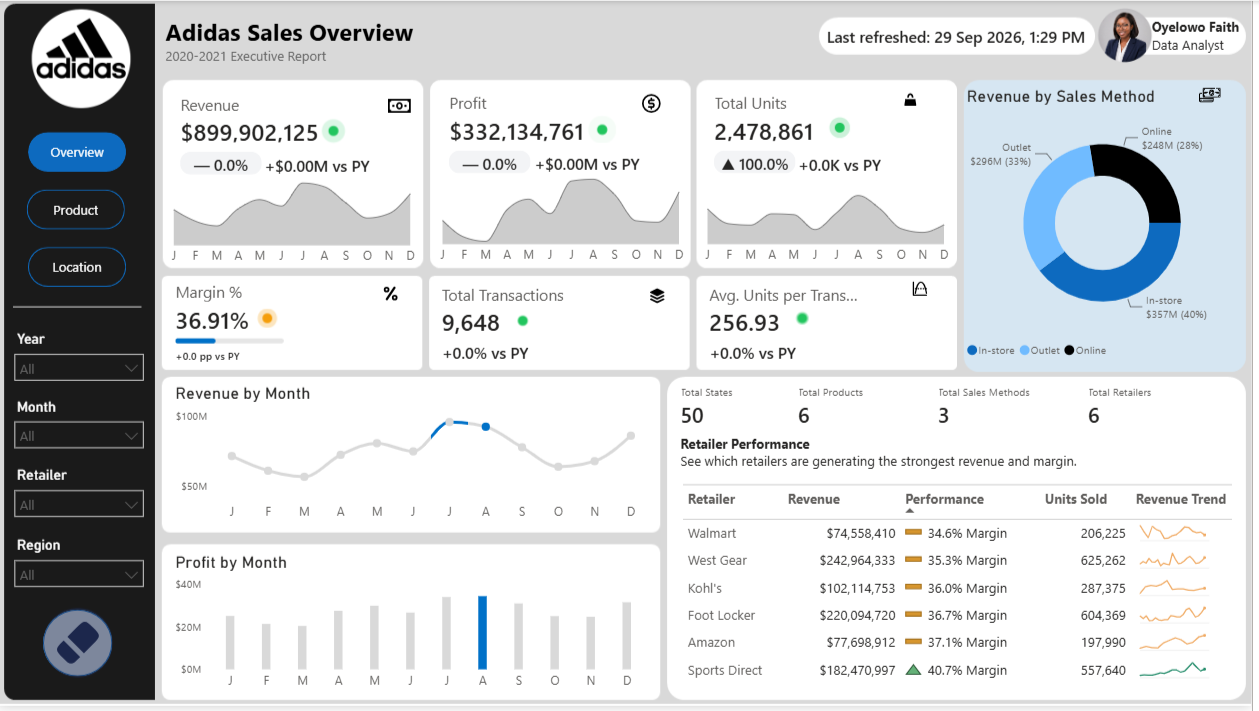

Layout of this report page (visuals, bound fields, positions):
{"tool":"powerbi","page":{"name":"Sales_Overview","canvas":[1280,720],"ordinal":3},"visuals":[{"type":"cardVisual","fields":{"Data":["DAX Measures.Profit"]},"box":[455.6,92.9,171,55.1],"z":0,"group":"g3"},{"type":"cardVisual","fields":{"Data":["DAX Measures.Total Units"]},"box":[726.1,93.6,171,55.1],"z":0,"group":"g2"},{"type":"group","id":"g1","title":"Group 1","box":[165.5,94.3,269.1,184.8],"z":0},{"type":"cardVisual","fields":{"Data":["DAX Measures.Revenue"]},"box":[180.7,94.3,171,55.1],"z":0,"group":"g1"},{"type":"group","id":"g2","title":"Group 1","box":[710.9,93.6,269.1,184.8],"z":1000},{"type":"cardVisual","fields":{"Data":["DAX Measures.Profit Growth Badge"]},"box":[455.6,148,93.8,33.5],"z":1000,"group":"g3"},{"type":"cardVisual","fields":{"Data":["DAX Measures.Total Units Growth Badge"]},"box":[726.1,148.7,93.8,33.5],"z":1000,"group":"g2"},{"type":"cardVisual","fields":{"Data":["DAX Measures.Revenue Growth Badge"]},"box":[180.7,149.4,93.8,33.5],"z":1000,"group":"g1"},{"type":"group","id":"g3","title":"Group 1","box":[440.4,92.9,269,184.6],"z":2000},{"type":"cardVisual","fields":{"Data":["DAX Measures.Profit Growth Label"]},"box":[541.9,143.8,140.6,40.5],"z":2000,"group":"g3"},{"type":"cardVisual","fields":{"Data":["DAX Measures.Total Units Growth Label"]},"box":[811.9,148.7,133.5,35.8],"z":2000,"group":"g2"},{"type":"cardVisual","fields":{"Data":["DAX Measures.Revenue Growth Label"]},"box":[266.5,149.4,133.5,35.8],"z":2000,"group":"g1"},{"type":"cardVisual","fields":{"Data":["DAX Measures.Total Transactions"]},"box":[447.8,290.8,157.6,54.4],"z":2500,"group":"g5"},{"type":"cardVisual","fields":{"Data":["DAX Measures.Avg. Units per Transaction"]},"box":[721.5,290.8,157.6,54.4],"z":2500,"group":"g6"},{"type":"cardVisual","fields":{"Data":["DAX Measures.Margin %"]},"box":[176.1,291,163.9,93.9],"z":2500,"group":"g4"},{"type":"areaChart","fields":{"Category":["Date.Month Axis Label"],"Y":["DAX Measures.Profit"]},"box":[440.4,165.9,269.1,111.8],"z":3000,"group":"g3"},{"type":"areaChart","fields":{"Category":["Date.Month Axis Label"],"Y":["DAX Measures.Total Units"]},"box":[710.9,166.6,269.1,111.8],"z":3000,"group":"g2"},{"type":"areaChart","fields":{"Category":["Date.Month Axis Label"],"Y":["DAX Measures.Revenue"]},"box":[165.5,167.3,269.1,111.8],"z":3000,"group":"g1"},{"type":"group","id":"g4","title":"Group 2","box":[176,291,164,93.9],"z":3000},{"type":"cardVisual","fields":{"Data":["DAX Measures.Transaction Change Label"]},"box":[447.8,338.8,133,36],"z":3000,"group":"g5"},{"type":"cardVisual","fields":{"Data":["DAX Measures.Average Units per Transaction Change Label"]},"box":[721.5,338.8,133,36],"z":3000,"group":"g6"},{"type":"cardVisual","fields":{"Data":["DAX Measures.Margin Change Label"]},"box":[176,343,133,35],"z":3000,"group":"g4"},{"type":"group","id":"g5","title":"Group 2","box":[447.8,290.8,157.6,84],"z":4000},{"type":"group","id":"g6","title":"Group 2","box":[721.5,290.8,156.8,84.5],"z":5000},{"type":"htmlContent443BE3AD55E043BF878BED274D3A6865","fields":{"content":["DAX Measures.Margin Pulsing Indicator"]},"box":[258,310,33.6,28],"z":5000,"group":"g4"},{"type":"htmlContent443BE3AD55E043BF878BED274D3A6865","fields":{"content":["DAX Measures.Avg Units Pulsing Indicator"]},"box":[804.3,310.4,33.6,28],"z":5000,"group":"g6"},{"type":"htmlContent443BE3AD55E043BF878BED274D3A6865","fields":{"content":["DAX Measures.Transactions Pulsing Indicator"]},"box":[519,312.5,32.6,27.7],"z":5000,"group":"g5"},{"type":"donutChart","fields":{"Category":["Sales.Sales Method"],"Y":["DAX Measures.Revenue"]},"box":[989.3,87.1,281.4,287.9],"z":6000},{"type":"columnChart","title":"Profit by Month","fields":{"Category":["Date.Month Axis Label"],"Y":["DAX Measures.Profit"]},"box":[175.7,562.9,490.7,150],"z":7000},{"type":"htmlContent443BE3AD55E043BF878BED274D3A6865","fields":{"content":["DAX Measures.Profit Pulsing Indicator"]},"box":[591.3,113.1,51.8,35.5],"z":8000,"group":"g3"},{"type":"htmlContent443BE3AD55E043BF878BED274D3A6865","fields":{"content":["DAX Measures.Total Units Pulsing Indicator"]},"box":[832.9,113.3,51.9,35],"z":8000,"group":"g2"},{"type":"htmlContent443BE3AD55E043BF878BED274D3A6865","fields":{"content":["DAX Measures.Revenue Pulsing Indicator"]},"box":[316.4,114.5,51.8,35.5],"z":8000,"group":"g1"},{"type":"pivotTable","fields":{"Rows":["Sales.Retailer"],"Values":["DAX Measures.Revenue","DAX Measures.Retailer Performance","Sum(Sales.Units Sold)","DAX Measures.Revenue Trend SVG"]},"box":[695,488.7,573.2,223.9],"z":8000},{"type":"cardVisual","fields":{"Data":["DAX Measures.Total States"]},"box":[691.5,390.8,96.5,47.2],"z":9000},{"type":"cardVisual","fields":{"Data":["DAX Measures.Total Products"]},"box":[812,390.8,96.5,47.2],"z":10000},{"type":"cardVisual","fields":{"Data":["DAX Measures.Total Sales Methods"]},"box":[954.2,390.8,112,47.2],"z":11000},{"type":"cardVisual","fields":{"Data":["DAX Measures.Total Retailers"]},"box":[1107.7,390.8,112,47.2],"z":12000},{"type":"lineChart","title":"Revenue by Month","fields":{"Category":["Date.Month Axis Label"],"Y":["DAX Measures.Revenue"]},"box":[176.1,390.8,490.1,150],"z":13000},{"type":"textbox","box":[691.5,438,494.4,50.7],"z":14000},{"type":"slicer","fields":{"Values":["Date.Year"]},"box":[6.2,332.5,152.5,70],"z":15000},{"type":"slicer","fields":{"Values":["Date.Month"]},"box":[6.2,401.2,152.5,70],"z":16000},{"type":"slicer","fields":{"Values":["Sales.Retailer"]},"box":[6.2,471.2,152.5,70],"z":17000},{"type":"slicer","fields":{"Values":["Location.Region"]},"box":[6.2,542.5,152.5,70],"z":18000},{"type":"shape","box":[15.7,299.2,131.5,27.7],"z":19000},{"type":"image","box":[9.7,4.8,147.2,113.4],"z":20000},{"type":"textbox","box":[166.5,9.7,322.1,61.5],"z":21000},{"type":"image","box":[378.8,94.1,61.5,26.5],"z":22000},{"type":"image","box":[646.7,94.1,39.8,20.5],"z":23000},{"type":"image","box":[908.4,94.1,45.8,13.3],"z":24000},{"type":"image","box":[1207.6,85.7,60.3,21.7],"z":25000},{"type":"image","box":[370.4,288.3,61.5,21.7],"z":26000},{"type":"image","box":[646.7,288.3,51.9,25.3],"z":27000},{"type":"image","box":[919.3,285.9,44.6,15.7],"z":28000},{"type":"shape","box":[45.9,621.9,70.8,68.3],"z":28001},{"type":"image","box":[14.5,612.9,135.1,85.7],"z":28002},{"type":"actionButton","box":[30.5,134.5,100.2,40.6],"z":28003},{"type":"actionButton","box":[29.2,192.9,100.2,40.6],"z":28004},{"type":"actionButton","box":[30.5,251.2,100.2,40.6],"z":28005},{"type":"cardVisual","fields":{"Data":["Last Refresh.Last Refreshed Label"]},"box":[840.9,9.7,275.1,50.7],"z":28006},{"type":"image","box":[1116,6,70,57.9],"z":28008,"group":"g7"},{"type":"textbox","box":[1173.9,12,103.8,47.1],"z":28009,"group":"g7"},{"type":"group","id":"g7","title":"Group 3","box":[1116,6,161.7,57.9],"z":28010}]}

Visuals, with their boxes in screenshot pixels (x1, y1, x2, y2), scaled from the page's 1280x720 canvas onto the 1259x711 screenshot:
cardVisual - DAX Measures.Profit: 448, 92, 616, 146
cardVisual - DAX Measures.Total Units: 714, 92, 882, 147
"Group 1" group: 163, 93, 427, 276
cardVisual - DAX Measures.Revenue: 178, 93, 346, 148
"Group 1" group: 699, 92, 964, 275
cardVisual - DAX Measures.Profit Growth Badge: 448, 146, 540, 179
cardVisual - DAX Measures.Total Units Growth Badge: 714, 147, 806, 180
cardVisual - DAX Measures.Revenue Growth Badge: 178, 148, 270, 181
"Group 1" group: 433, 92, 698, 274
cardVisual - DAX Measures.Profit Growth Label: 533, 142, 671, 182
cardVisual - DAX Measures.Total Units Growth Label: 799, 147, 930, 182
cardVisual - DAX Measures.Revenue Growth Label: 262, 148, 393, 183
cardVisual - DAX Measures.Total Transactions: 440, 287, 595, 341
cardVisual - DAX Measures.Avg. Units per Transaction: 710, 287, 865, 341
cardVisual - DAX Measures.Margin %: 173, 287, 334, 380
areaChart - Date.Month Axis Label x DAX Measures.Profit: 433, 164, 698, 274
areaChart - Date.Month Axis Label x DAX Measures.Total Units: 699, 165, 964, 275
areaChart - Date.Month Axis Label x DAX Measures.Revenue: 163, 165, 427, 276
"Group 2" group: 173, 287, 334, 380
cardVisual - DAX Measures.Transaction Change Label: 440, 335, 571, 370
cardVisual - DAX Measures.Average Units per Transaction Change Label: 710, 335, 840, 370
cardVisual - DAX Measures.Margin Change Label: 173, 339, 304, 373
"Group 2" group: 440, 287, 595, 370
"Group 2" group: 710, 287, 864, 371
htmlContent443BE3AD55E043BF878BED274D3A6865 - DAX Measures.Margin Pulsing Indicator: 254, 306, 287, 334
htmlContent443BE3AD55E043BF878BED274D3A6865 - DAX Measures.Avg Units Pulsing Indicator: 791, 307, 824, 334
htmlContent443BE3AD55E043BF878BED274D3A6865 - DAX Measures.Transactions Pulsing Indicator: 510, 309, 543, 336
donutChart - Sales.Sales Method x DAX Measures.Revenue: 973, 86, 1250, 370
"Profit by Month" columnChart: 173, 556, 655, 704
htmlContent443BE3AD55E043BF878BED274D3A6865 - DAX Measures.Profit Pulsing Indicator: 582, 112, 633, 147
htmlContent443BE3AD55E043BF878BED274D3A6865 - DAX Measures.Total Units Pulsing Indicator: 819, 112, 870, 146
htmlContent443BE3AD55E043BF878BED274D3A6865 - DAX Measures.Revenue Pulsing Indicator: 311, 113, 362, 148
pivotTable - Sales.Retailer x DAX Measures.Revenue: 684, 483, 1247, 704
cardVisual - DAX Measures.Total States: 680, 386, 775, 433
cardVisual - DAX Measures.Total Products: 799, 386, 894, 433
cardVisual - DAX Measures.Total Sales Methods: 939, 386, 1049, 433
cardVisual - DAX Measures.Total Retailers: 1090, 386, 1200, 433
"Revenue by Month" lineChart: 173, 386, 655, 534
textbox: 680, 433, 1166, 483
slicer - Date.Year: 6, 328, 156, 397
slicer - Date.Month: 6, 396, 156, 465
slicer - Sales.Retailer: 6, 465, 156, 534
slicer - Location.Region: 6, 536, 156, 605
shape: 15, 295, 145, 323
image: 10, 5, 154, 117
textbox: 164, 10, 481, 70
image: 373, 93, 433, 119
image: 636, 93, 675, 113
image: 893, 93, 939, 106
image: 1188, 85, 1247, 106
image: 364, 285, 425, 306
image: 636, 285, 687, 310
image: 904, 282, 948, 298
shape: 45, 614, 115, 682
image: 14, 605, 147, 690
actionButton: 30, 133, 129, 173
actionButton: 29, 190, 127, 231
actionButton: 30, 248, 129, 288
cardVisual - Last Refresh.Last Refreshed Label: 827, 10, 1098, 60
image: 1098, 6, 1167, 63
textbox: 1155, 12, 1257, 58
"Group 3" group: 1098, 6, 1257, 63
